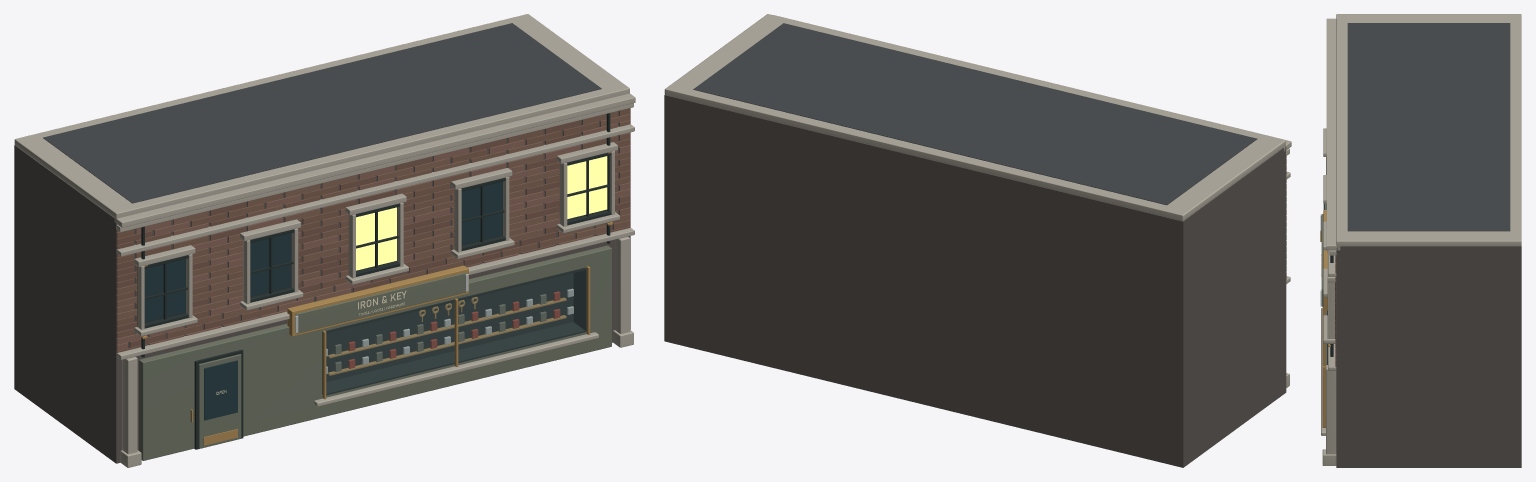
Rendered from district-iron-key.glb.
3 renders of one model, left to right at view 1: azimuth 30°, elevation 25°; view 2: azimuth 150°, elevation 25°; view 3: azimuth 270°, elevation 25°, orthographic. The views are drawn at different scales.
Parts seen in each view (by area): view 1: District Roof membrane, District Warm limestone, Existing envelope, District Coffee enamel, District Charcoal painted metal, District Shop window clear glazing, Roof cap, District Brick tone 3, District Brick tone 0, District Opaque dark glazing, District Brick tone 4, District Brick tone 1 (+8 smaller); view 2: Existing envelope, District Roof membrane, Roof cap, District Warm limestone; view 3: Existing envelope, District Roof membrane, Roof cap, District Warm limestone, District Aged brass, Sign enamel inset.
Part boxes in pixels (bbox=[...]): District Roof membrane: bbox=[43, 23, 601, 203]; District Warm limestone: bbox=[114, 93, 635, 467]; Existing envelope: bbox=[14, 111, 630, 463]; District Coffee enamel: bbox=[139, 245, 611, 460]; District Charcoal painted metal: bbox=[137, 113, 610, 449]; District Shop window clear glazing: bbox=[326, 270, 586, 395]; Roof cap: bbox=[14, 14, 629, 218]; District Brick tone 3: bbox=[116, 114, 630, 333]; District Brick tone 0: bbox=[116, 120, 630, 352]; District Opaque dark glazing: bbox=[145, 181, 502, 420]; District Brick tone 4: bbox=[116, 123, 630, 350]; District Brick tone 1: bbox=[116, 108, 630, 338]; Existing envelope: bbox=[664, 95, 1286, 467]; District Roof membrane: bbox=[693, 23, 1257, 205]; Roof cap: bbox=[664, 14, 1285, 220]; District Warm limestone: bbox=[773, 15, 1291, 387]; Existing envelope: bbox=[1336, 246, 1521, 467]; District Roof membrane: bbox=[1347, 23, 1510, 231]; Roof cap: bbox=[1336, 14, 1521, 246]; District Warm limestone: bbox=[1321, 18, 1340, 465]; District Aged brass: bbox=[1320, 231, 1330, 427]; Sign enamel inset: bbox=[1321, 214, 1323, 306].
Size of the model in its own units: 15.7 by 7.31 by 5.87.
